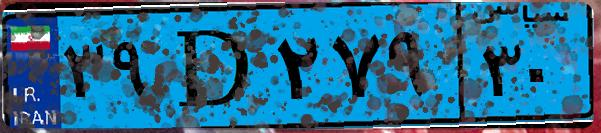0: (525, 38, 570, 115)
2: (270, 28, 330, 110)
3: (57, 26, 110, 100), (475, 38, 525, 113)
7: (330, 28, 385, 110)
9: (385, 28, 445, 110), (110, 28, 158, 98)
D: (158, 12, 270, 120)
